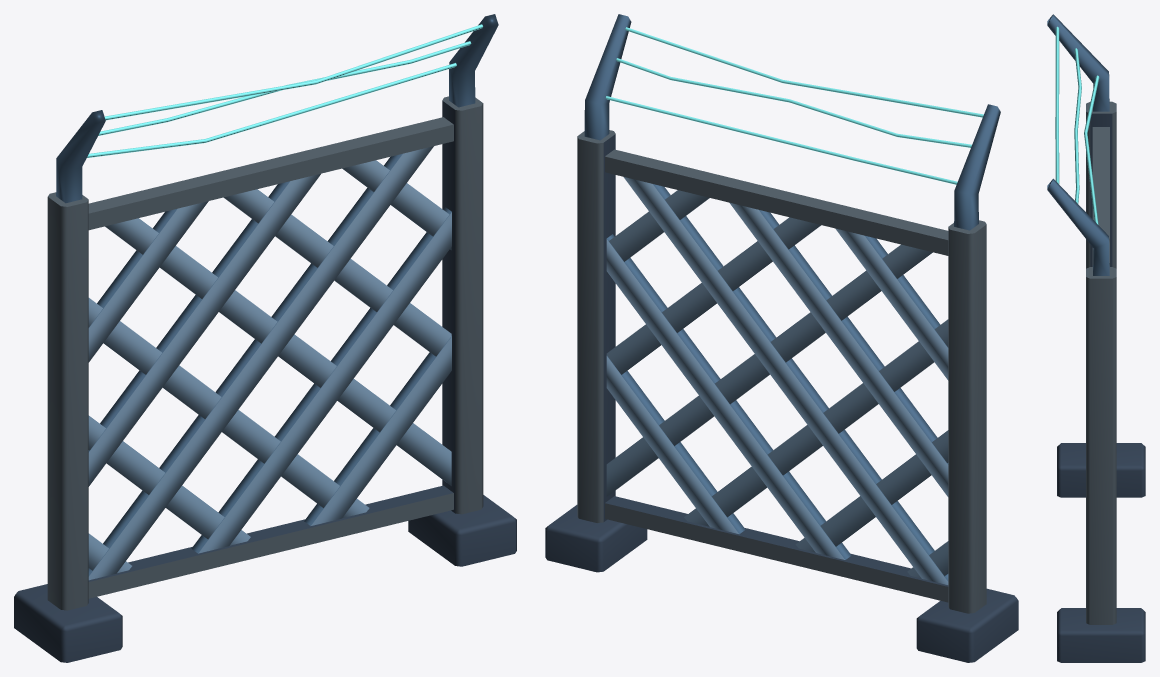
Rendered from prison fence1.fbx.
3 renders of one model, left to right at view 1: azimuth 30°, elevation 25°; view 2: azimuth 150°, elevation 25°; view 3: azimuth 270°, elevation 25°, orthographic. The views are drawn at different scales.
Parts seen in each view (by area): view 1: Fence2; view 2: Fence2; view 3: Fence2.
Part boxes in pixels (x1=…): Fence2: x1=14, y1=14, x2=516, y2=662; Fence2: x1=545, y1=14, x2=1018, y2=662; Fence2: x1=1047, y1=14, x2=1145, y2=662.
Bounding box in the file's own units: 151 × 173 × 32.9.
Materials: 1 (1 with a texture image).
